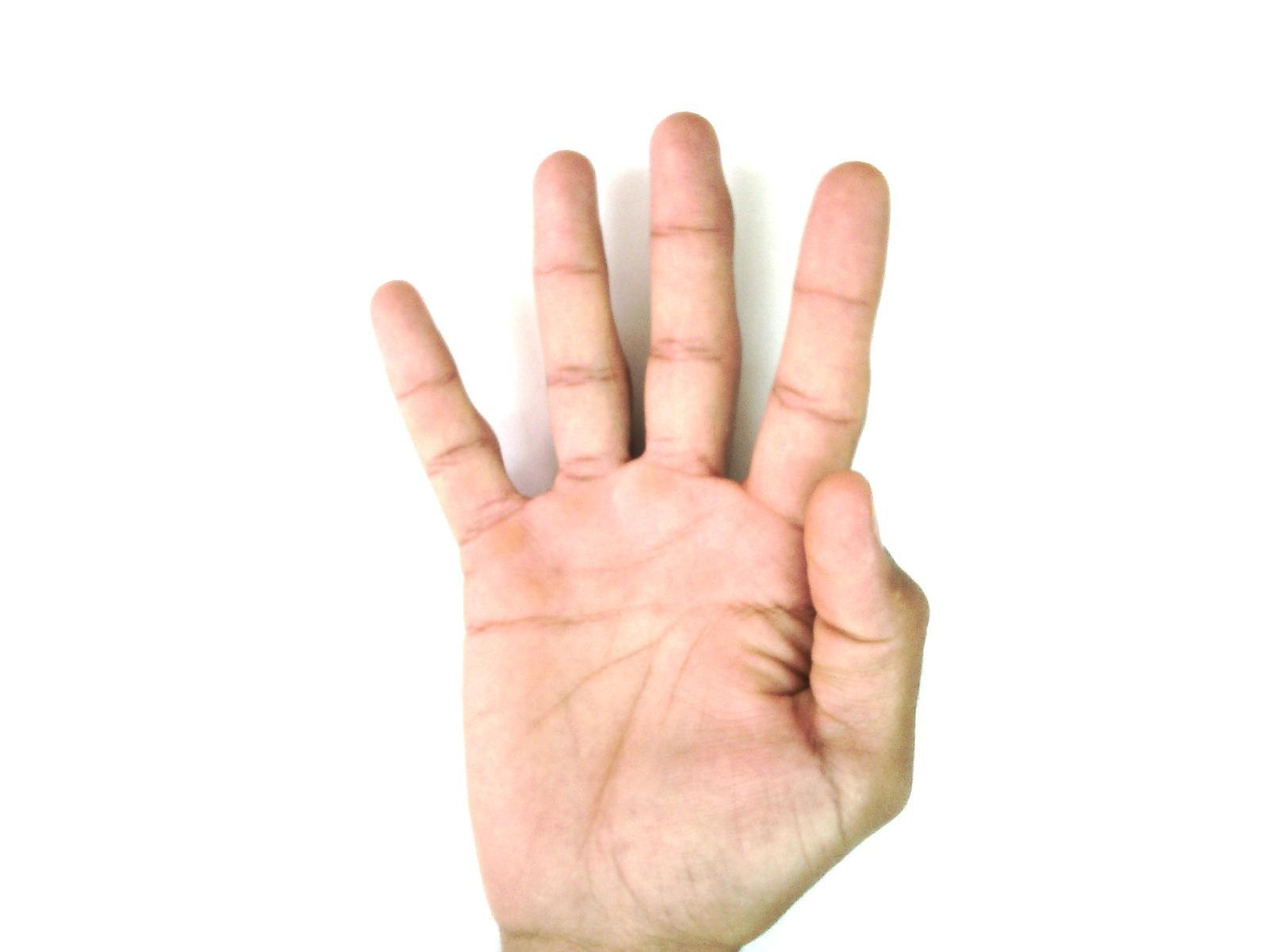open_palm: (367, 110, 934, 950)
